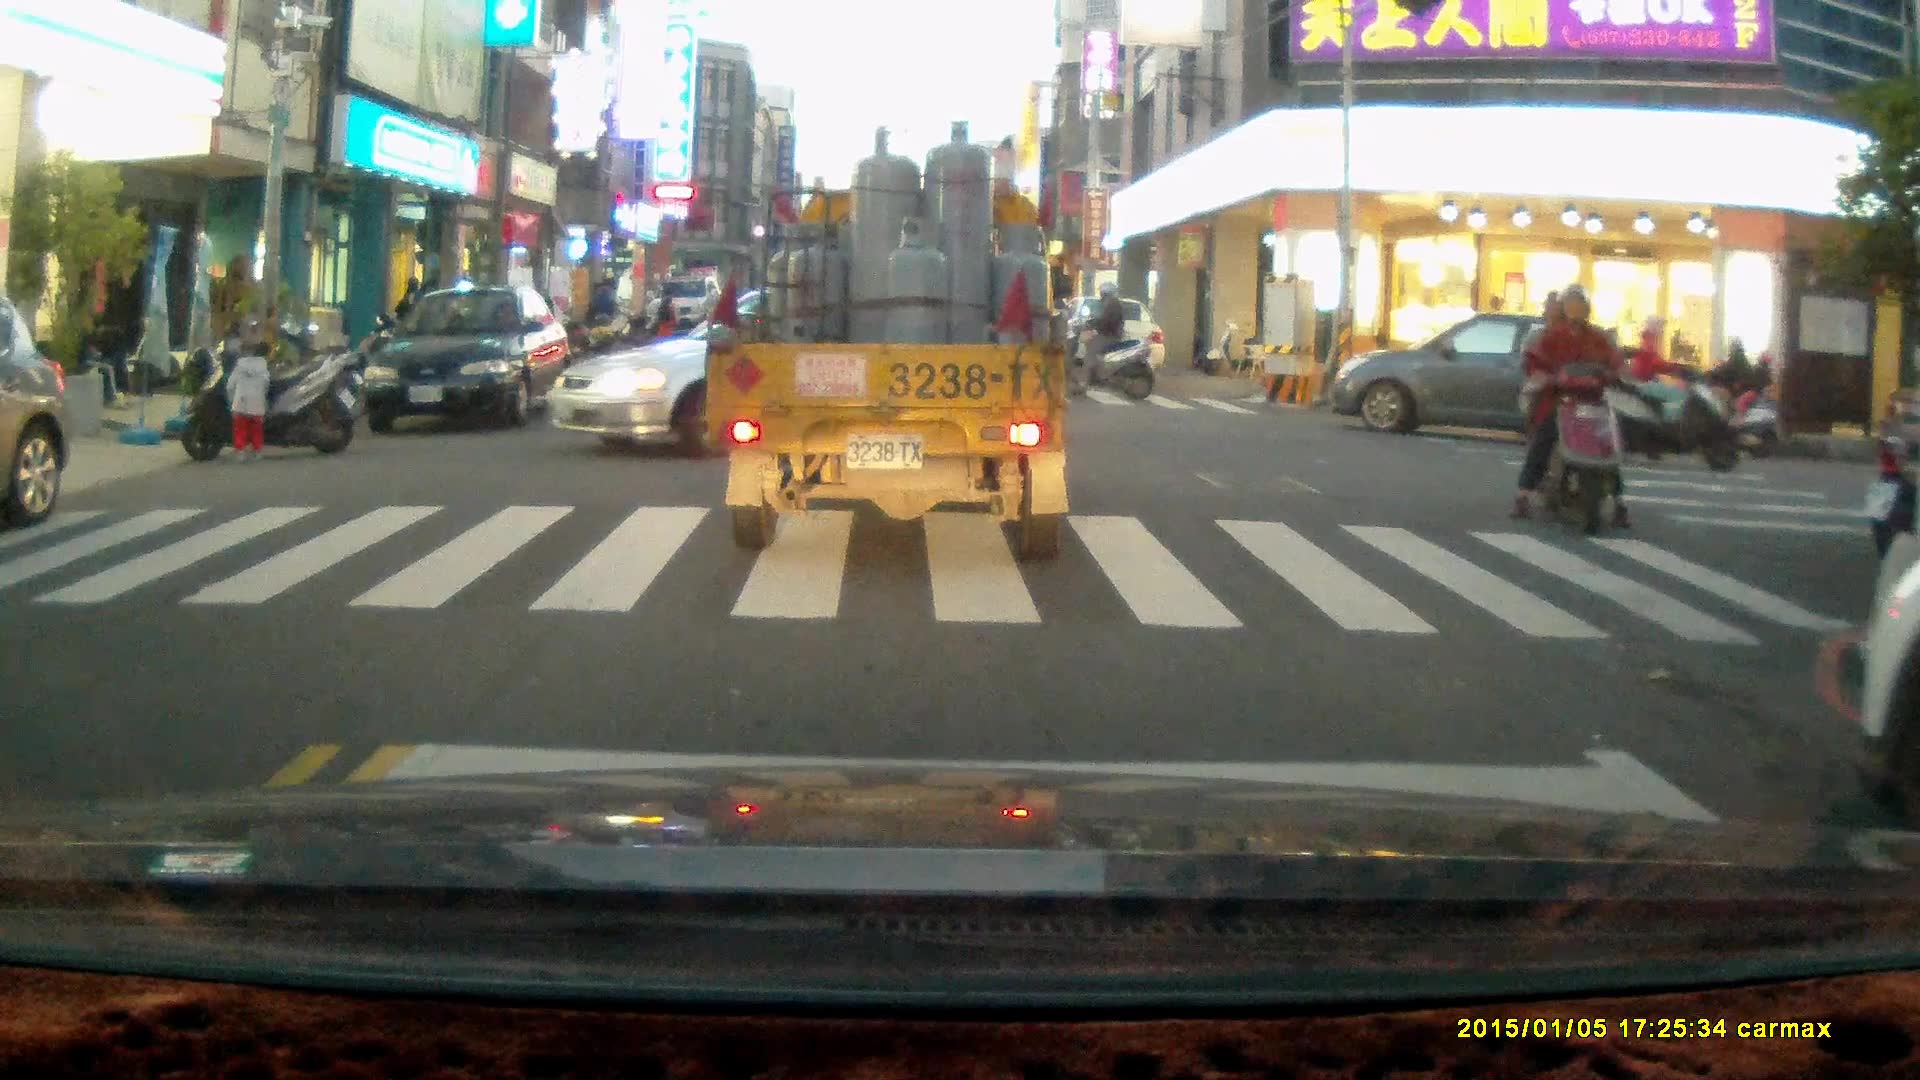pedestrian: (221, 338, 274, 464), (593, 277, 620, 339), (654, 284, 679, 342)
rider: (1505, 285, 1629, 536), (1595, 311, 1739, 468), (1669, 340, 1783, 460), (1060, 282, 1155, 403)
vehicle: (706, 120, 1071, 557), (542, 283, 1048, 451), (1321, 310, 1642, 467), (353, 287, 573, 436), (1848, 531, 1920, 906), (1067, 297, 1168, 383), (649, 278, 727, 333)
